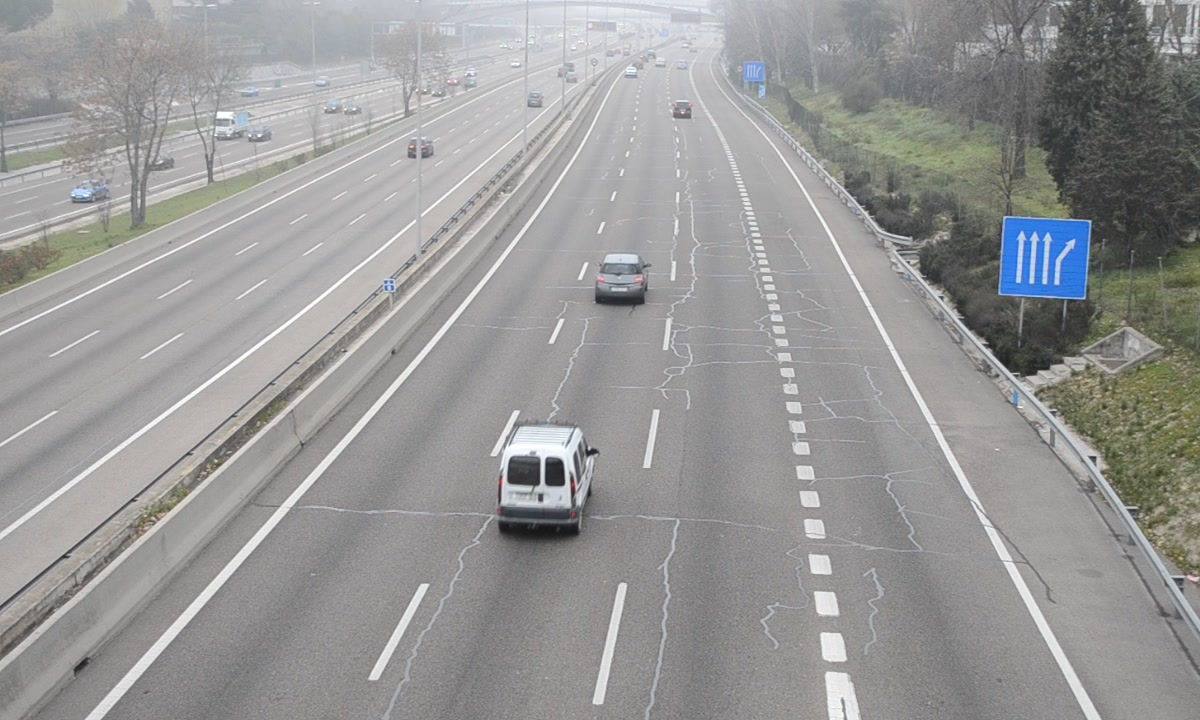car: (594, 252, 647, 299)
van: (498, 426, 594, 530)
